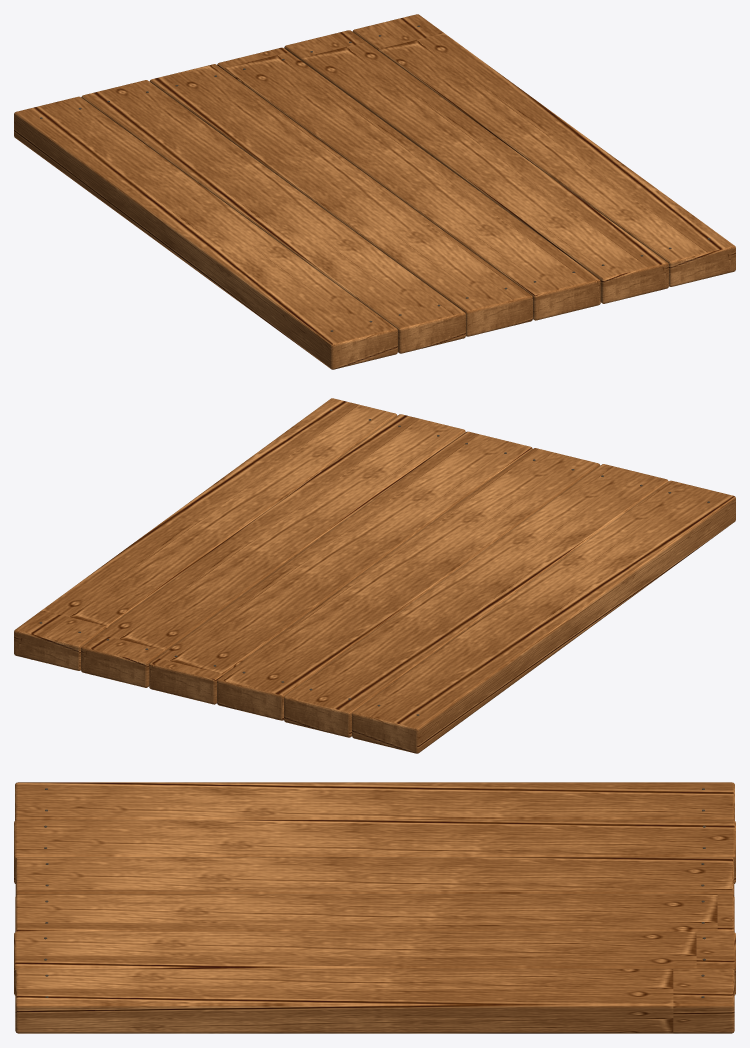
Rendered from floorboards.glb.
3 renders of one model, top to bottom at view 1: azimuth 30°, elevation 25°; view 2: azimuth 150°, elevation 25°; view 3: azimuth 270°, elevation 25°, orthographic. The views are drawn at different scales.
Visible parts, largest first — view 1: Oak plank 01, Oak plank 05, Oak plank 02, Oak plank 04, Oak plank 03, Oak plank 06; view 2: Oak plank 01, Oak plank 05, Oak plank 02, Oak plank 04, Oak plank 03, Oak plank 06; view 3: Oak plank 06, Oak plank 02, Oak plank 05, Oak plank 01, Oak plank 03, Oak plank 04.
Part boxes in pixels (<box>): Oak plank 01: <box>14,96,397,369</box>; Oak plank 05: <box>284,30,668,303</box>; Oak plank 02: <box>81,80,465,353</box>; Oak plank 04: <box>217,47,600,320</box>; Oak plank 03: <box>149,64,532,336</box>; Oak plank 06: <box>352,14,735,286</box>; Oak plank 01: <box>352,480,735,753</box>; Oak plank 05: <box>81,414,465,687</box>; Oak plank 02: <box>284,464,668,737</box>; Oak plank 04: <box>149,431,532,704</box>; Oak plank 03: <box>217,448,600,720</box>; Oak plank 06: <box>14,398,397,670</box>; Oak plank 06: <box>15,969,734,1033</box>; Oak plank 02: <box>14,820,735,883</box>; Oak plank 05: <box>14,931,735,995</box>; Oak plank 01: <box>15,782,734,820</box>; Oak plank 03: <box>15,857,734,895</box>; Oak plank 04: <box>15,894,734,931</box>.
Bounding box in the file's own units: 1.14 × 0.0725 × 1.55.
Materials: 2 (1 with a texture image).
